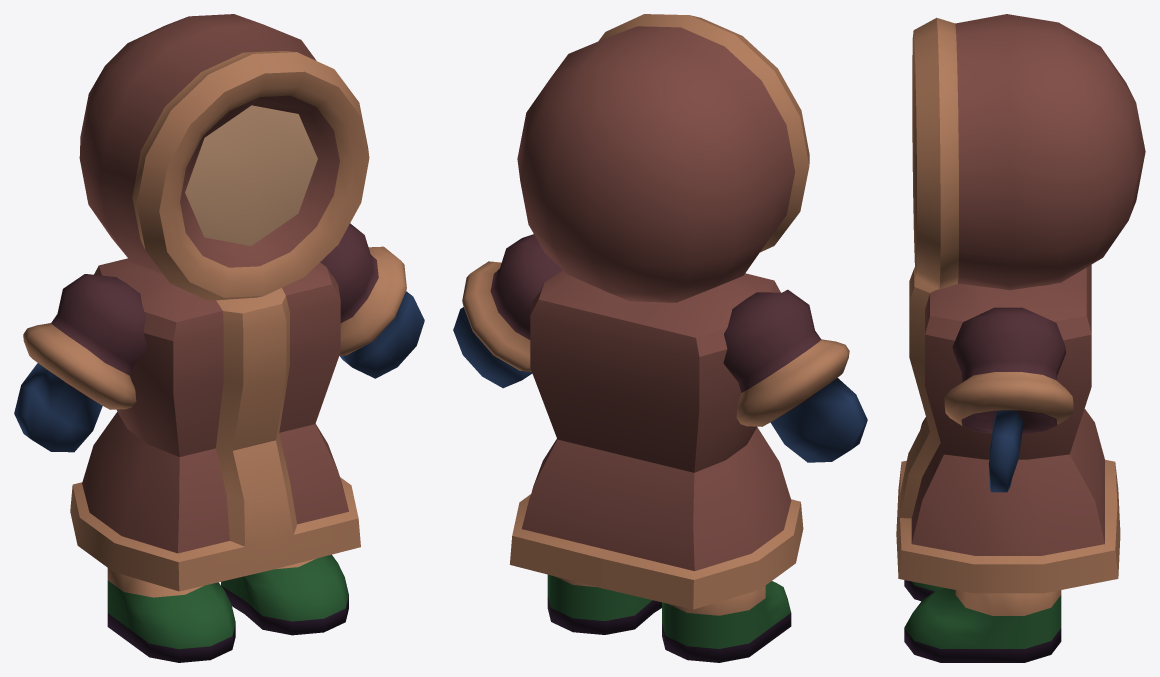
Rendered from EskimoNew.gltf.
3 views of the same model, side by side, from view 1: azimuth 30°, elevation 25°; view 2: azimuth 150°, elevation 25°; view 3: azimuth 270°, elevation 25° (orthographic).
Parts seen in each view (by area): view 1: Body, Head, Hand_Left, Hand_Right, Feet_Left, Feet_Right; view 2: Body, Head, Hand_Left, Hand_Right, Feet_Left, Feet_Right; view 3: Head, Body, Hand_Right, Feet_Right, Feet_Left.
Part boxes in pixels (bbox=[...]): Body: bbox=[70, 258, 360, 591]; Head: bbox=[79, 14, 369, 300]; Hand_Left: bbox=[14, 274, 146, 452]; Hand_Right: bbox=[320, 223, 424, 378]; Feet_Left: bbox=[107, 568, 235, 662]; Feet_Right: bbox=[221, 554, 348, 635]; Body: bbox=[509, 270, 803, 609]; Head: bbox=[517, 14, 809, 302]; Hand_Left: bbox=[723, 289, 867, 462]; Hand_Right: bbox=[453, 234, 562, 388]; Feet_Left: bbox=[662, 581, 791, 662]; Feet_Right: bbox=[547, 574, 661, 634]; Head: bbox=[912, 14, 1145, 290]; Body: bbox=[896, 264, 1120, 593]; Hand_Right: bbox=[944, 307, 1073, 492]; Feet_Right: bbox=[904, 588, 1061, 662]; Feet_Left: bbox=[904, 580, 943, 601].
Bounding box in the file's own units: 2.09 × 2.87 × 1.11.
2 materials, 2 textured.
